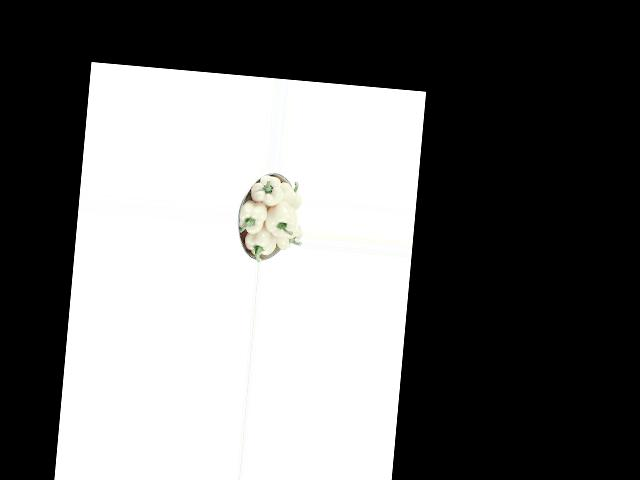bell_pepper: (272, 222, 302, 254)
